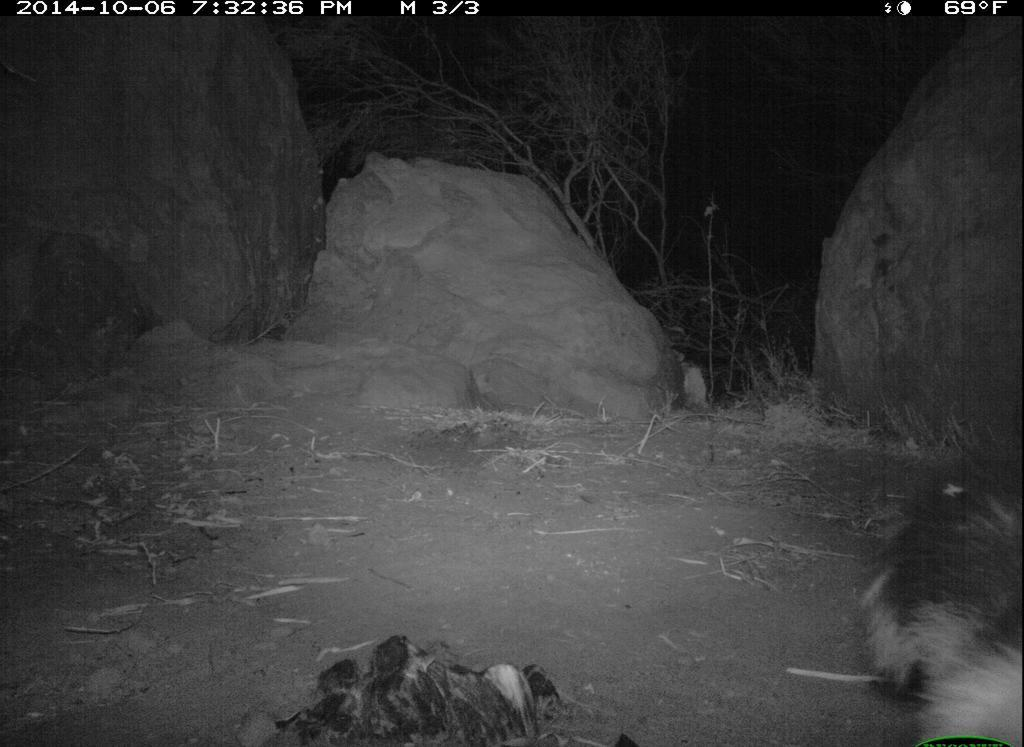skunk: (870, 454, 1023, 742)
